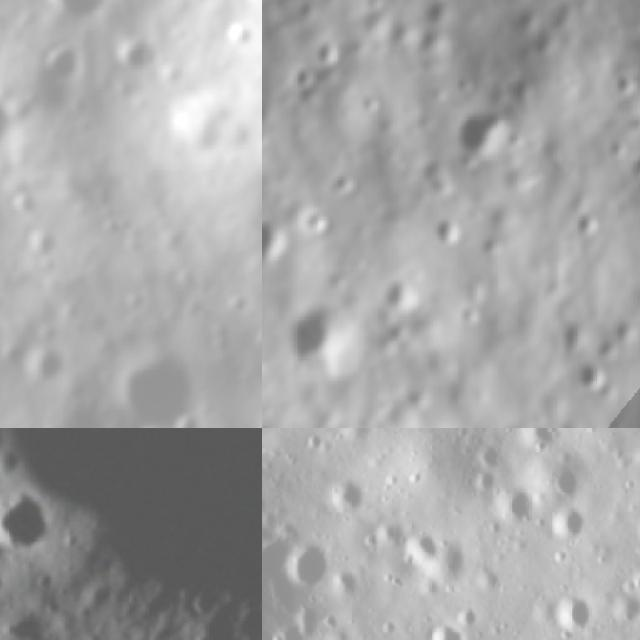crater: (101, 350, 196, 420), (285, 299, 358, 376), (0, 480, 63, 561), (447, 106, 510, 160), (281, 536, 330, 590), (9, 343, 64, 384), (19, 0, 113, 23), (551, 497, 596, 545), (26, 46, 84, 81), (550, 590, 596, 634), (376, 270, 422, 313), (402, 528, 446, 568), (322, 476, 368, 514), (262, 217, 295, 266), (409, 0, 460, 30), (572, 358, 609, 395), (606, 580, 640, 620), (502, 488, 536, 526), (421, 615, 472, 640), (504, 2, 540, 36), (465, 436, 502, 469), (516, 428, 567, 450), (308, 36, 346, 65), (433, 212, 462, 248), (469, 469, 505, 498), (302, 203, 330, 240), (328, 168, 359, 199), (458, 298, 486, 332), (507, 76, 538, 104), (572, 209, 603, 237), (613, 65, 637, 101), (27, 571, 54, 603), (320, 606, 347, 638), (226, 10, 245, 54), (546, 415, 605, 428), (293, 61, 317, 92), (476, 232, 504, 258), (506, 126, 528, 158), (625, 148, 640, 185), (0, 561, 8, 606)
